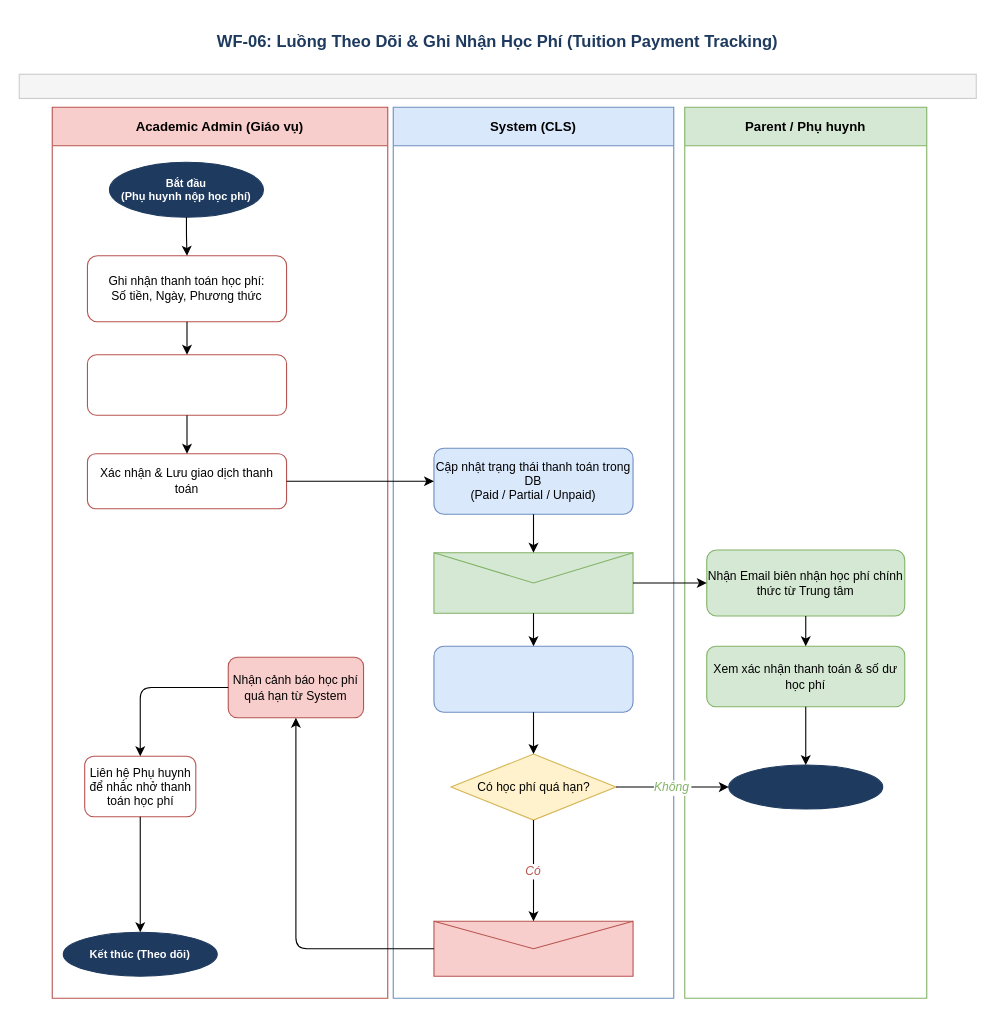
Image size: 996x1018. Some labels were removed from this diagram. The centre of each missing label's shape, as x and y in pixels:
"Chọn Học viên & Kỳ thanh toán tương ứng" goes at (186,384).
"KPI: Cash Flow Security | Actors: Academic Admin, System, Parent" goes at (497,85).
"Kết thúc (Happy Path)" goes at (805,786).
"⏰ Job hàng ngày: Quét học phí chưa thanh toán quá ngày đến hạn" goes at (533,678).
"⚠ Gửi cảnh báo quá hạn tới Admin (Email + Dashboard)" goes at (533,948).
"📧 Tạo & Gửi Email biên nhận học phí cho Phụ huynh (tự động)" goes at (533,582).
